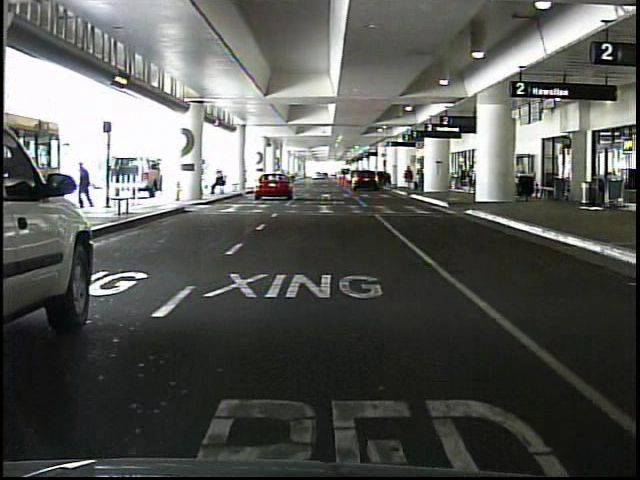person: (79, 162, 100, 209), (212, 169, 230, 196), (404, 164, 417, 193)
